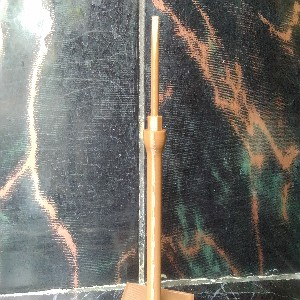obeng: (143, 15, 167, 300)
